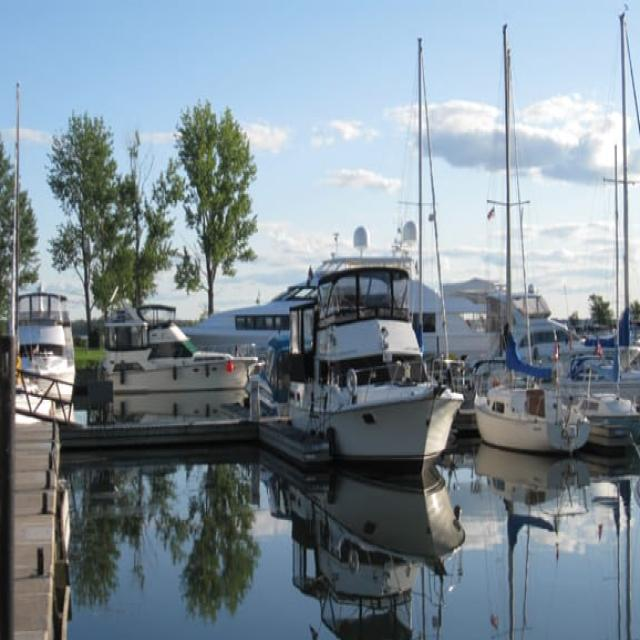houseboat: (270, 248, 452, 457)
